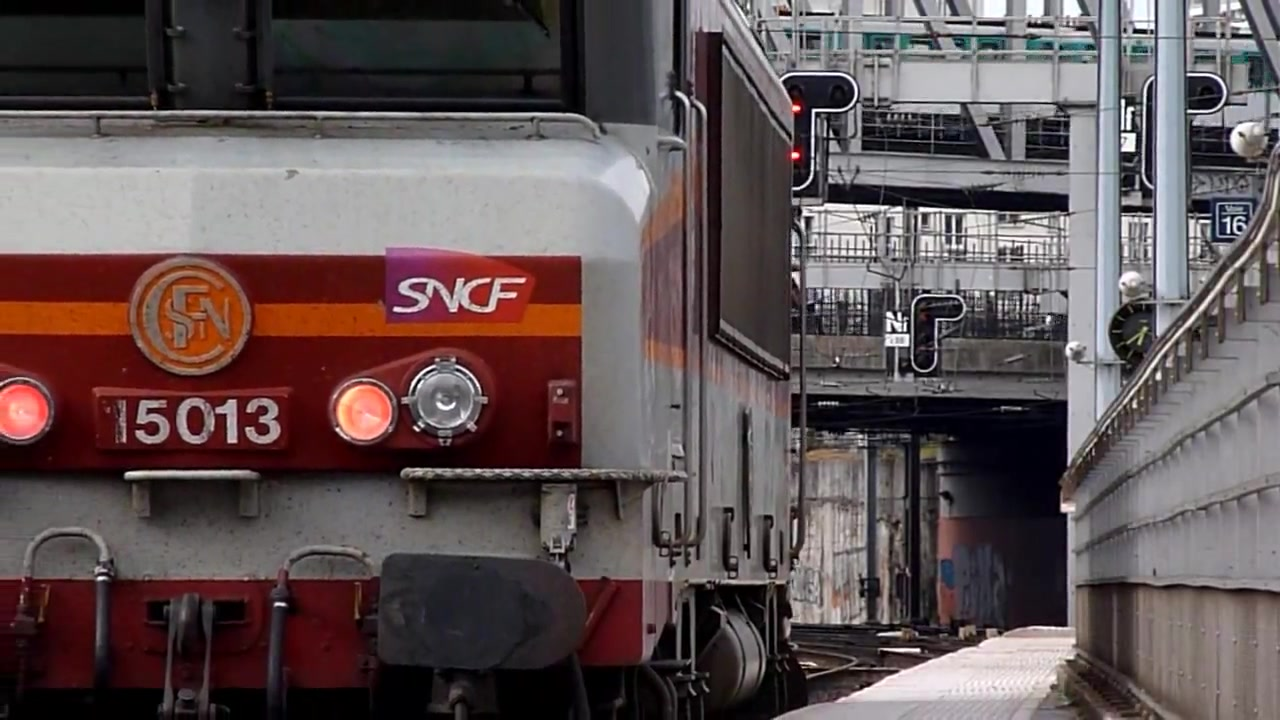train: (1, 1, 811, 718)
